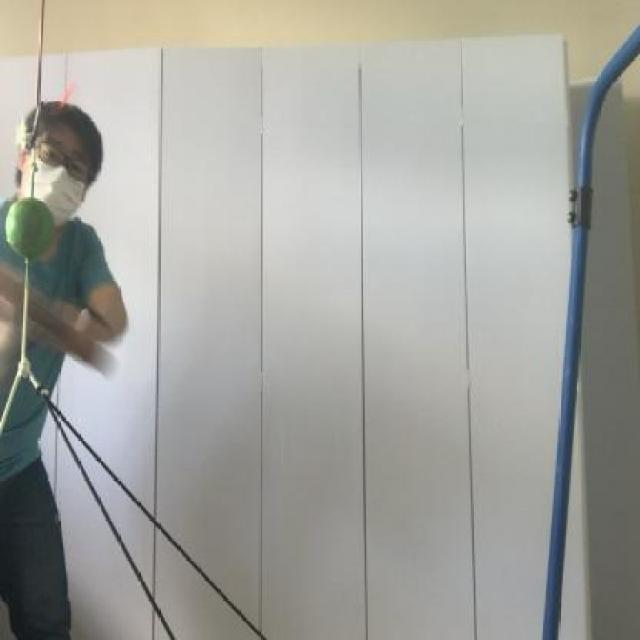baseball: (5, 186, 56, 266)
